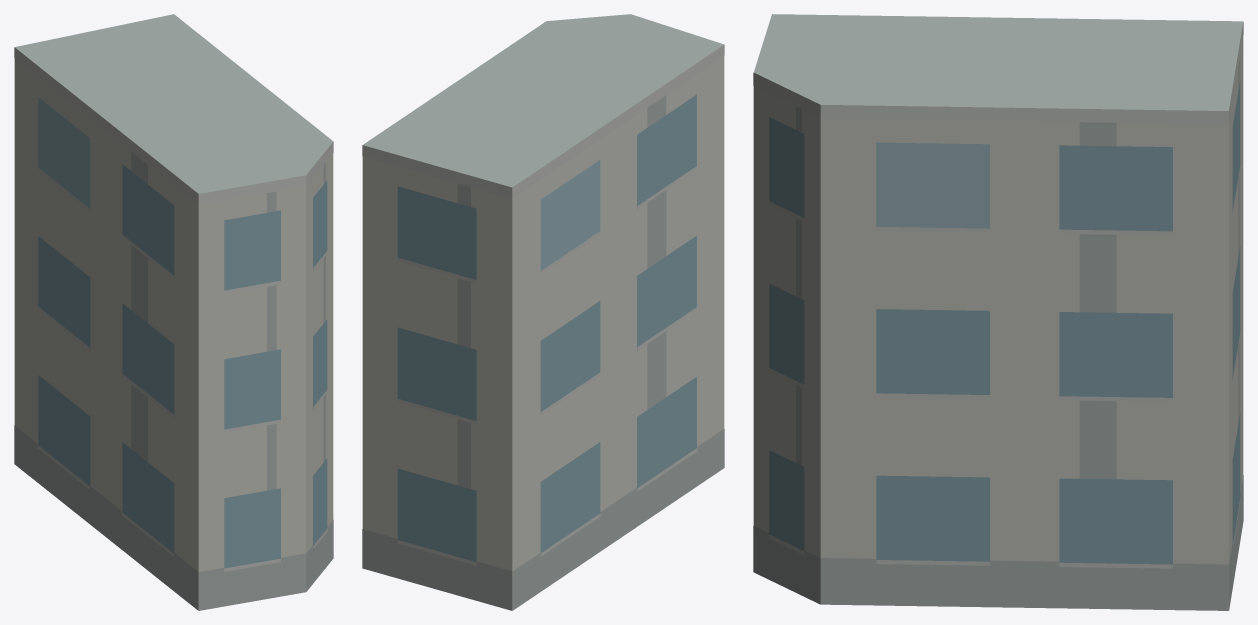
File: survey-upis-32769316.glb
3 views of the same model, side by side, from view 1: azimuth 30°, elevation 25°; view 2: azimuth 150°, elevation 25°; view 3: azimuth 270°, elevation 25° (orthographic). The views are drawn at different scales.
Visible parts, largest first — view 1: survey-upis-32769316.tmp; view 2: survey-upis-32769316.tmp; view 3: survey-upis-32769316.tmp.
Boxes of the visible parts, x1,y1,x2,y2 form: survey-upis-32769316.tmp: (14, 14, 333, 610); survey-upis-32769316.tmp: (362, 14, 724, 610); survey-upis-32769316.tmp: (753, 14, 1243, 610).
Size of the model in its own units: 3.82 by 9.15 by 8.14.
